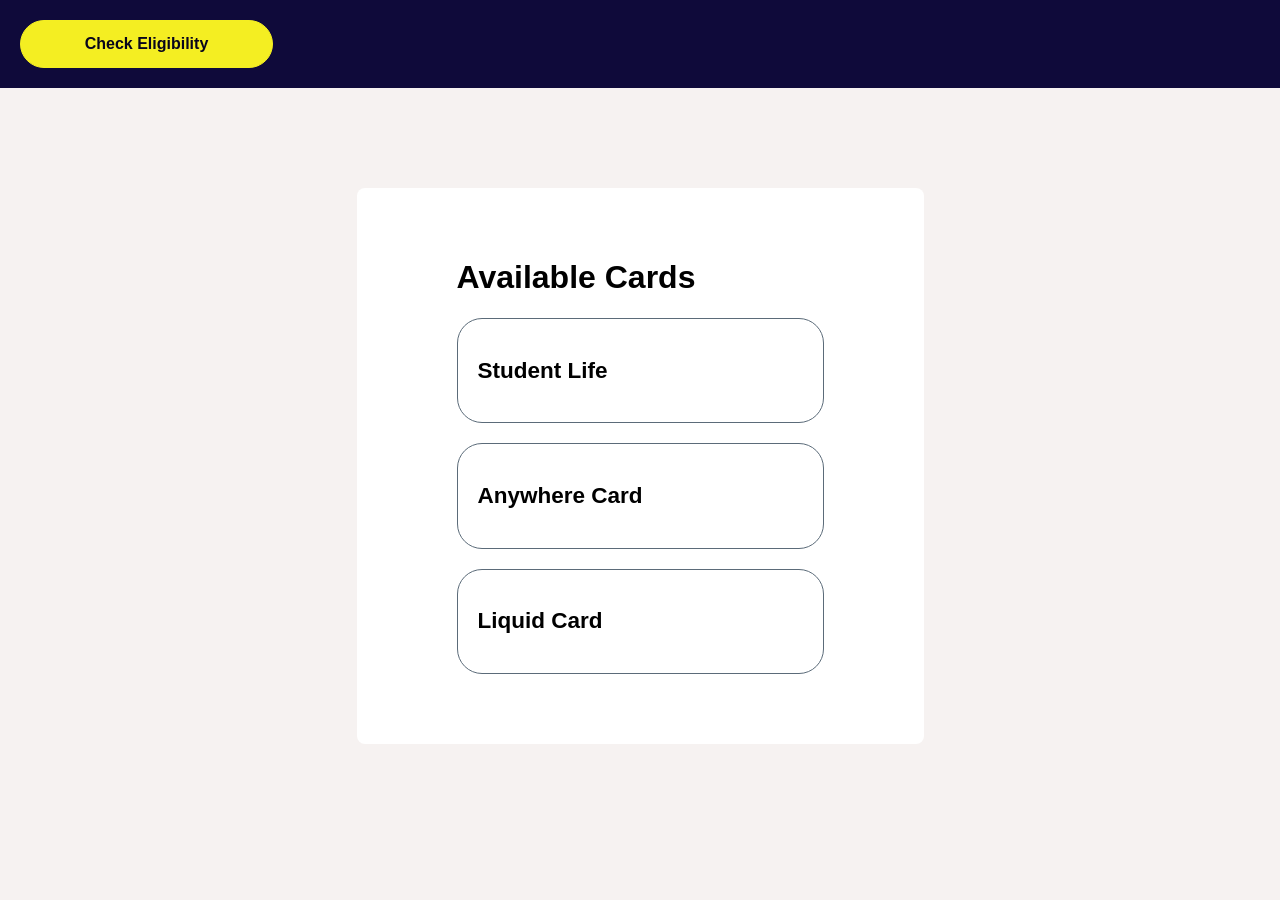
Test: Cards › should render default card page
The width and height of the screenshot is (1280, 900).
Expected: the button "Check Eligibility" is shown, left=20, top=20, right=273, bottom=68
Expected: the text "Apr: 33.9%" is not shown
Step 1. Click the heading "Anywhere Card" → (560, 495), box left=478, top=483, right=643, bottom=508
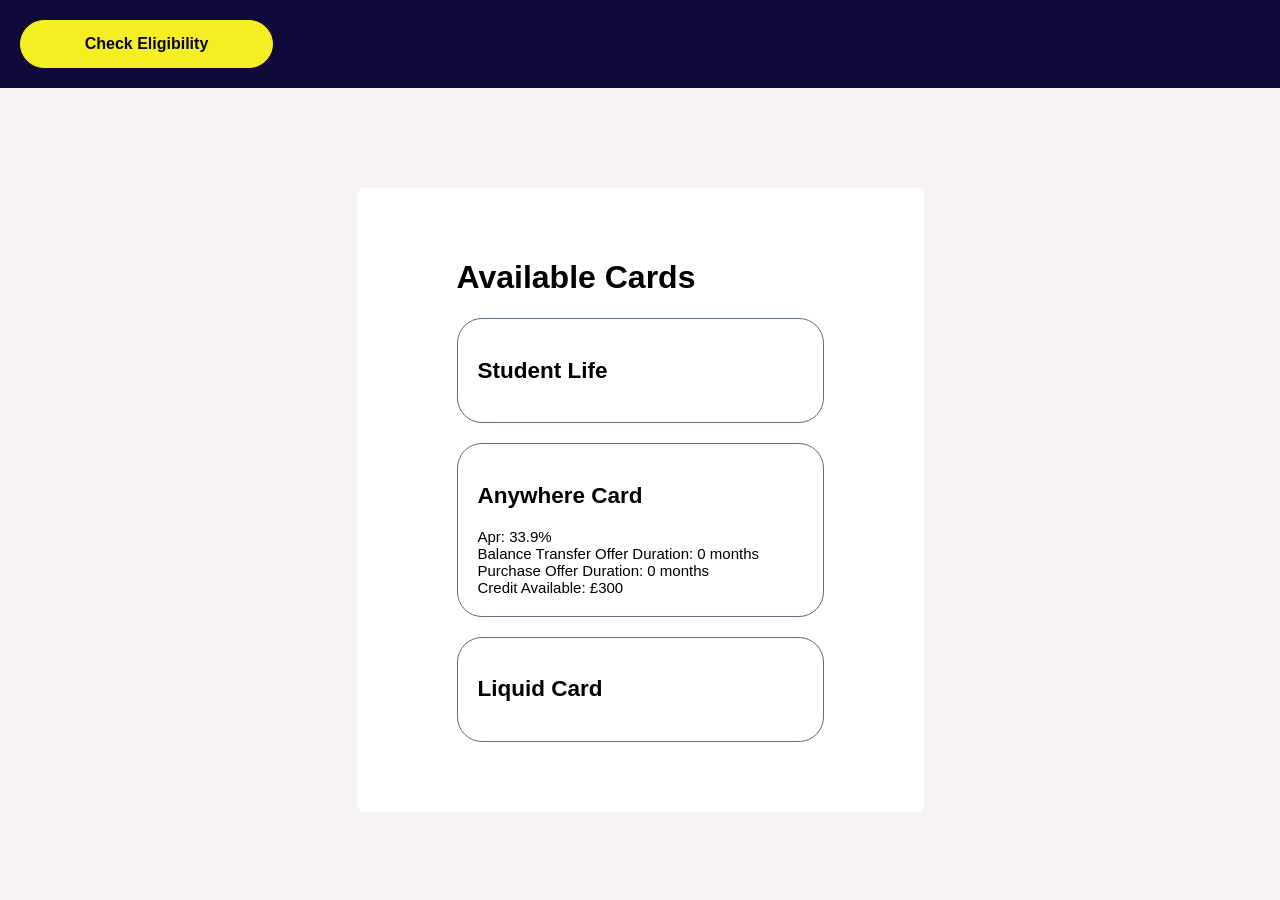
Expected: the text "Apr: 33.9%" is shown, left=478, top=528, right=552, bottom=545
